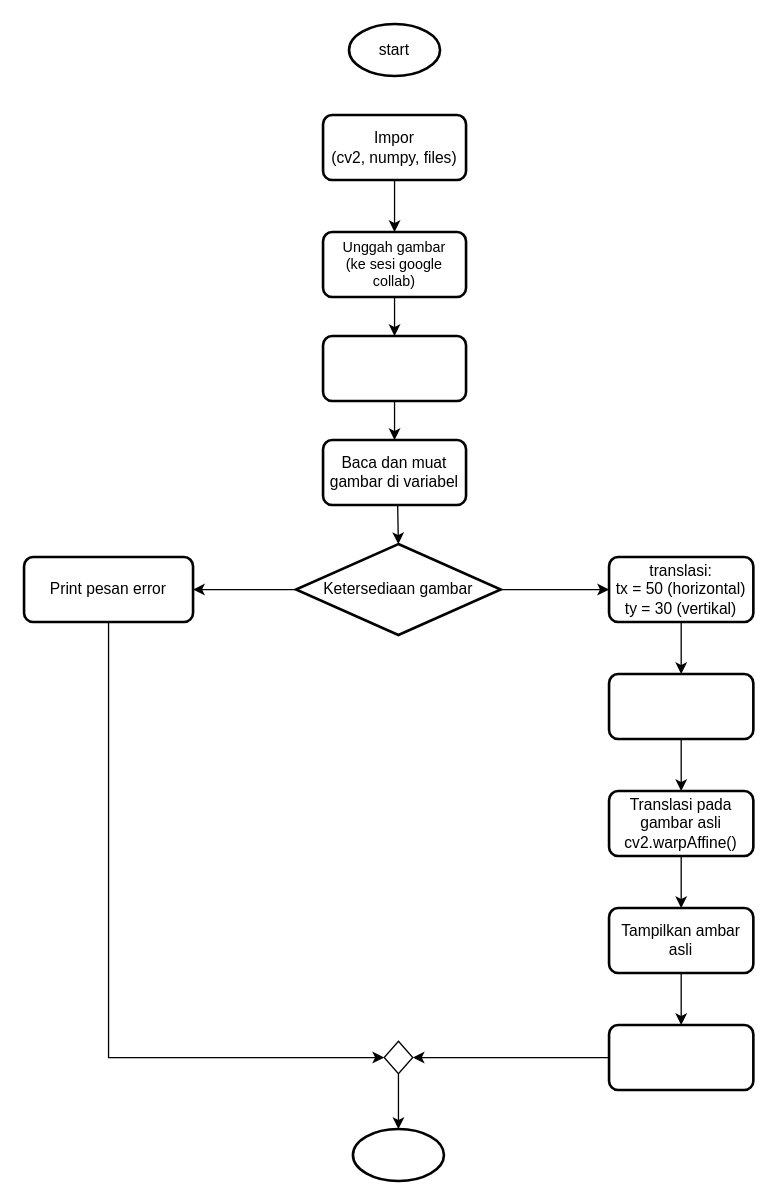
This 776x1204 diagram has some shape labels left out. Here are the shapes that lost their labels. From the top down, the centre of each, then its label:
At point 394,368: "Ambil nama file gambar".
At point 680,706: "Buat matriks transformasi np.float32()".
At point 680,1057: "Tampilkan gambar translasi".
At point 398,1154: "stop".
